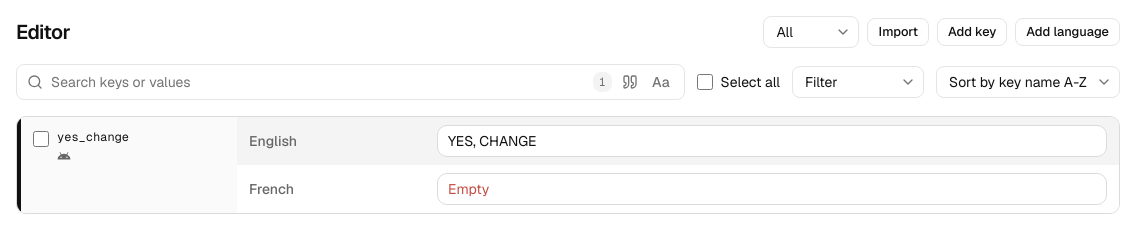
Scenario: editor screen › selects the keys currently shown
This screenshot has width=1137, height=231.
Click the checkbox labelled "Select all" at (705, 82), box [697,74,713,90]
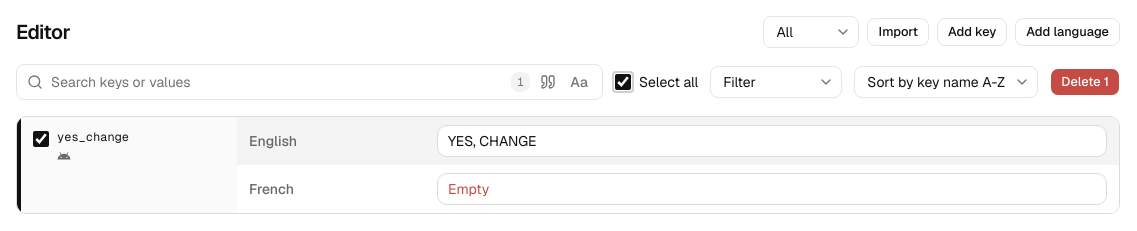
Expected: the checkbox named "Select yes_change" is checked, [33,131,49,147]
Expected: the button "Delete 1" is shown, [1050,68,1120,96]
Click the checkbox labelled "Select all" at (623, 82), box [615,74,631,90]
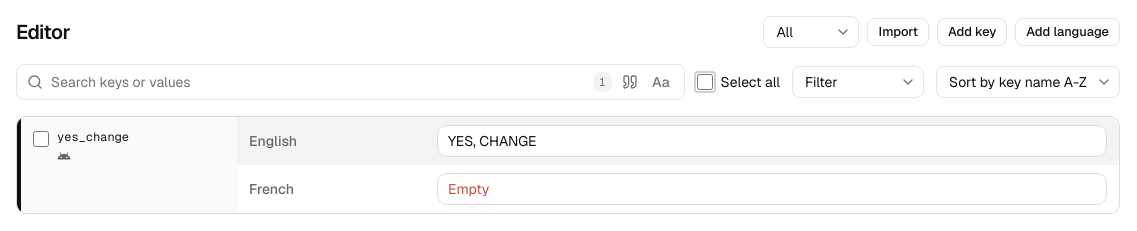
Expected: the checkbox named "Select yes_change" is not checked, [33,131,49,147]
